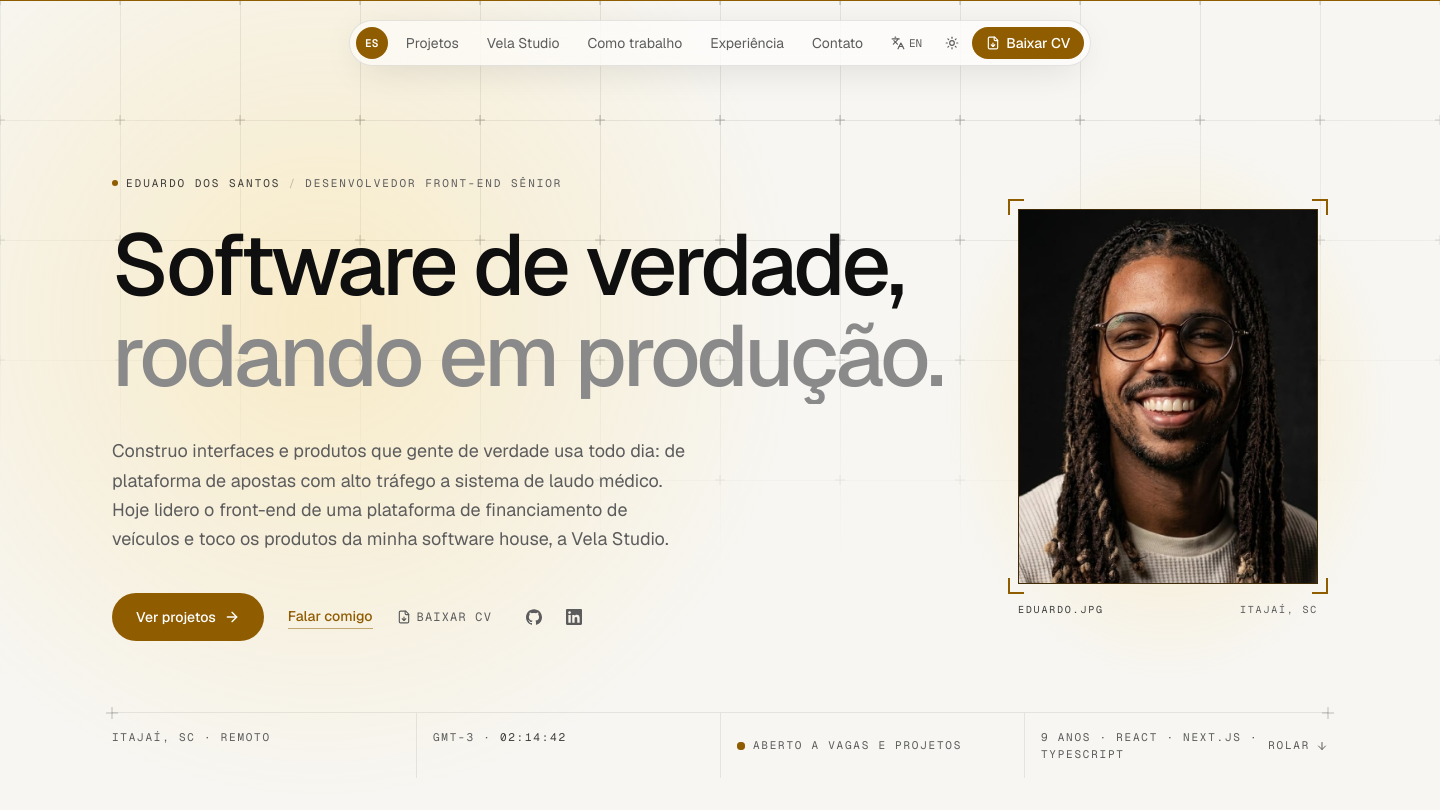
Portfolio Page › Navbar › switches the whole page to English
Click the button with aria-label "Switch to English": coordinates (906, 43) 881,27 -> 932,59
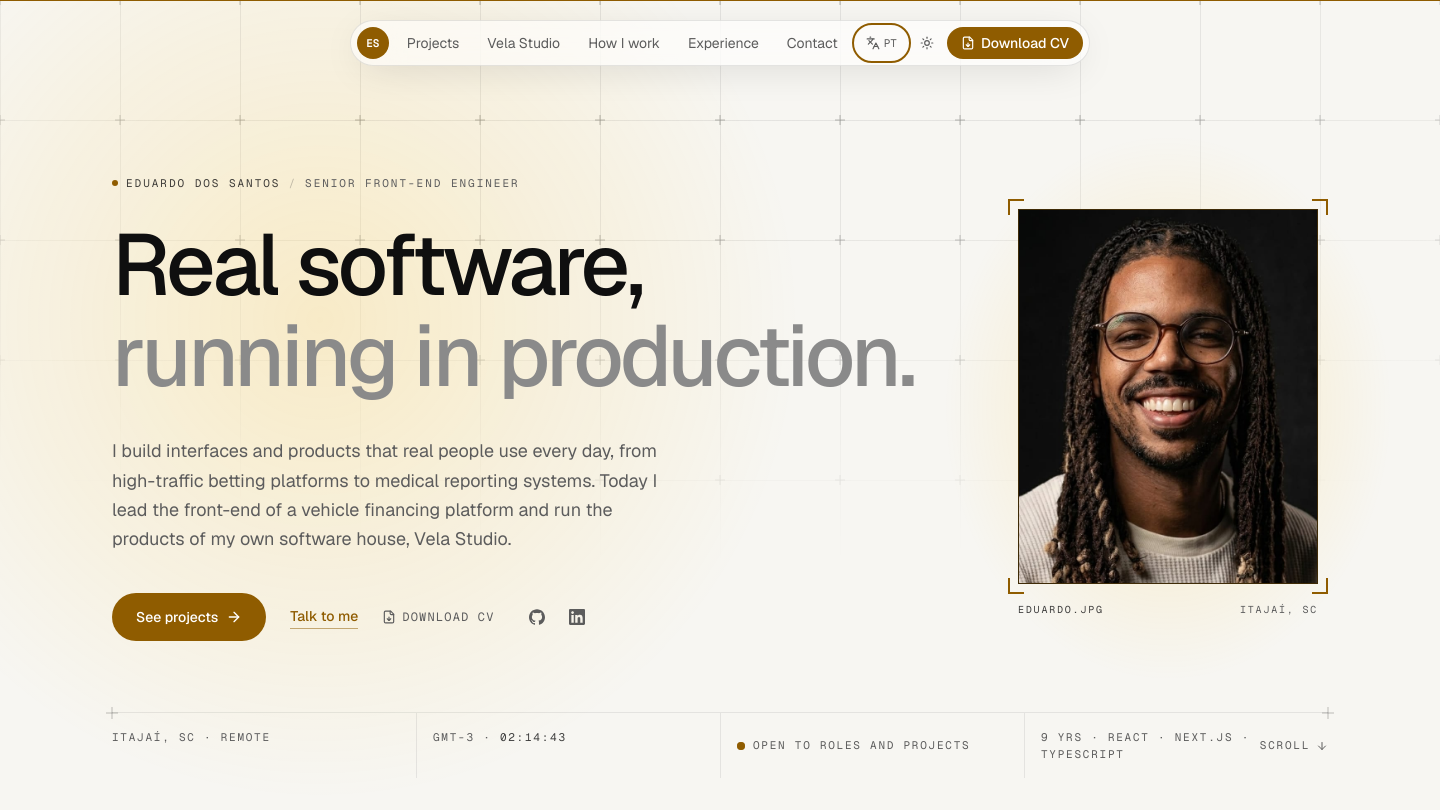
Check: the button with aria-label "Mudar para Português" is shown, box 856,27 -> 907,59
